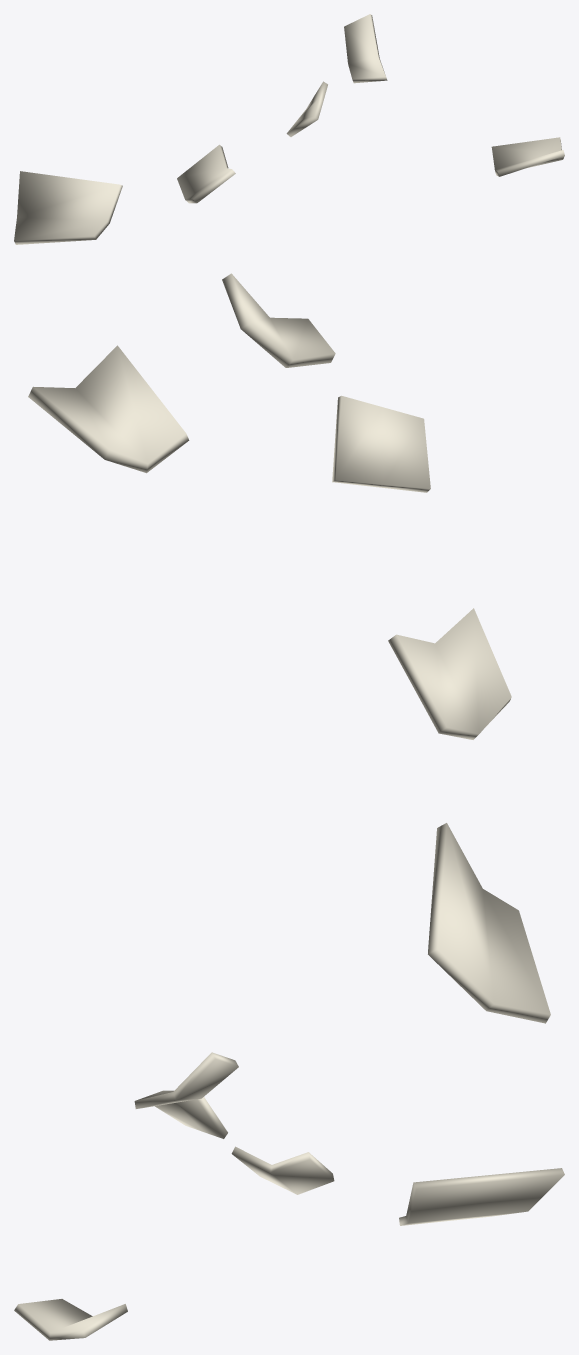
3 renders of one model, top to bottom at view 1: azimuth 30°, elevation 25°; view 2: azimuth 150°, elevation 25°; view 3: azimuth 270°, elevation 25°, orthographic. The views are drawn at different scales.
Visible parts, largest first — view 1: ZA_5600a40da2a43b1e; view 2: ZA_5600a40da2a43b1e; view 3: ZA_5600a40da2a43b1e.
Part boxes in pixels (bbox=[...]): ZA_5600a40da2a43b1e: bbox=[14, 14, 564, 244]; ZA_5600a40da2a43b1e: bbox=[28, 273, 550, 1023]; ZA_5600a40da2a43b1e: bbox=[14, 1052, 564, 1340].
Size of the model in its own units: 0.0398 by 0.0227 by 0.0332.
